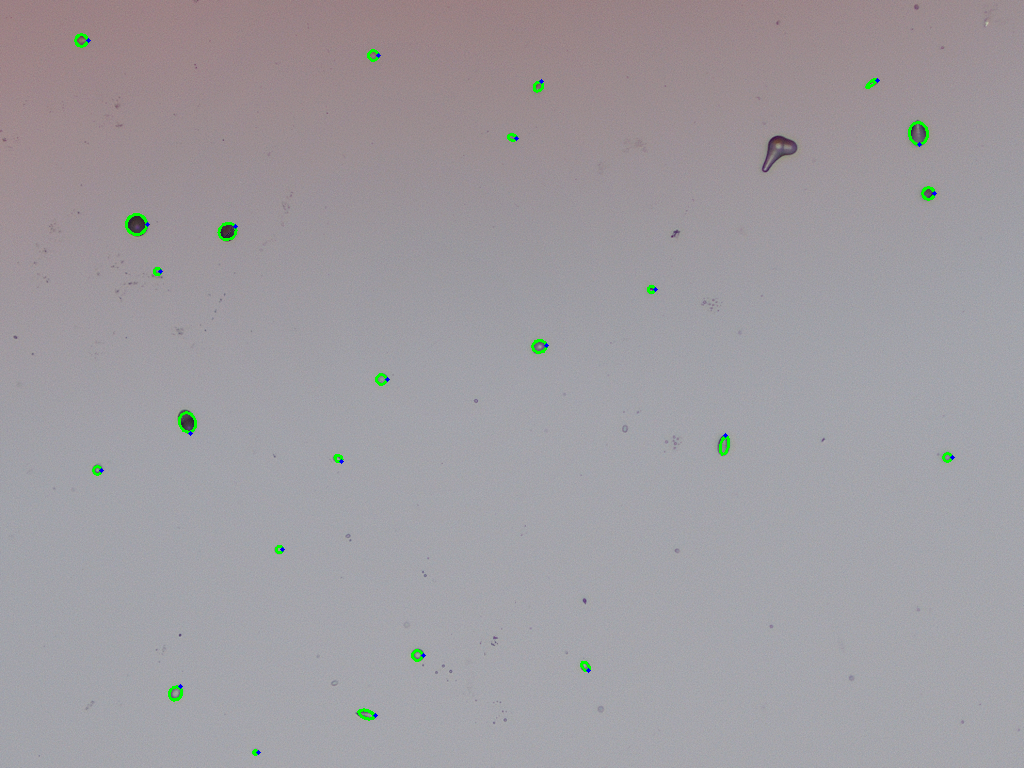circle: (126, 214, 147, 235), (922, 186, 934, 199), (376, 373, 387, 384), (412, 649, 423, 660), (368, 50, 378, 60), (92, 465, 101, 474), (943, 452, 952, 461), (275, 546, 282, 553), (153, 267, 160, 274), (648, 285, 655, 292), (252, 749, 258, 754)
ellipse: (909, 120, 927, 146), (178, 410, 195, 433), (74, 34, 88, 45), (357, 711, 375, 717), (581, 661, 590, 671), (333, 455, 342, 462), (507, 133, 516, 140)
